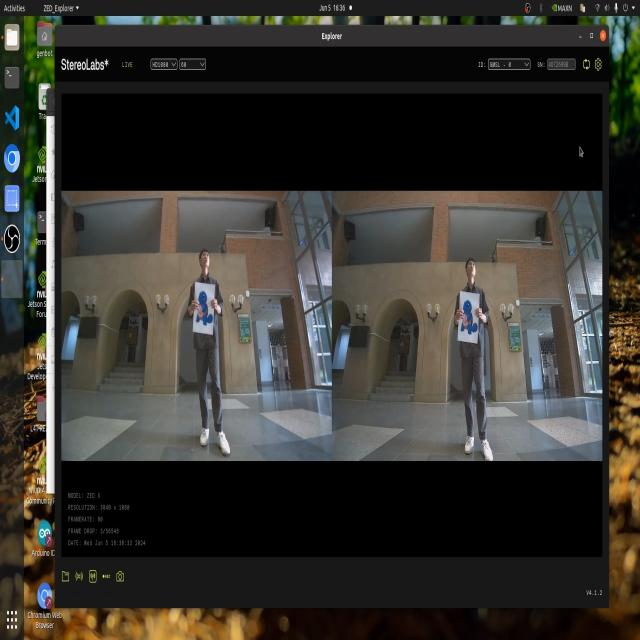blue: (185, 289, 217, 331), (458, 295, 484, 346)
